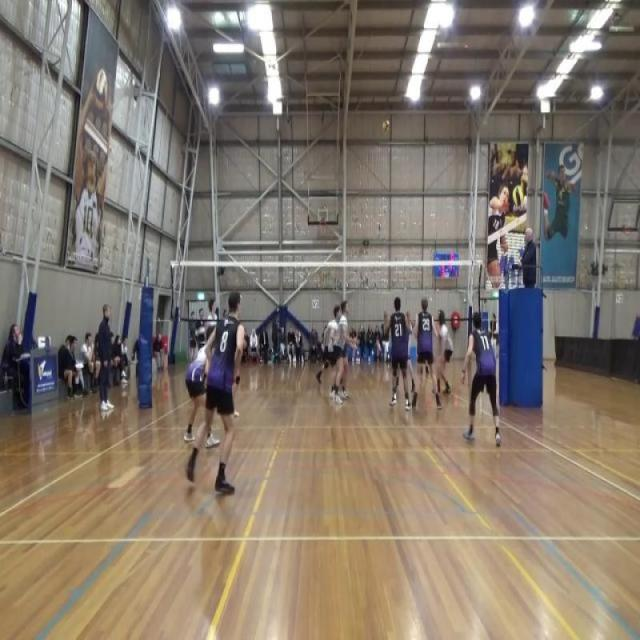volleyball: (92, 66, 110, 115), (512, 185, 524, 208), (382, 118, 390, 134)
